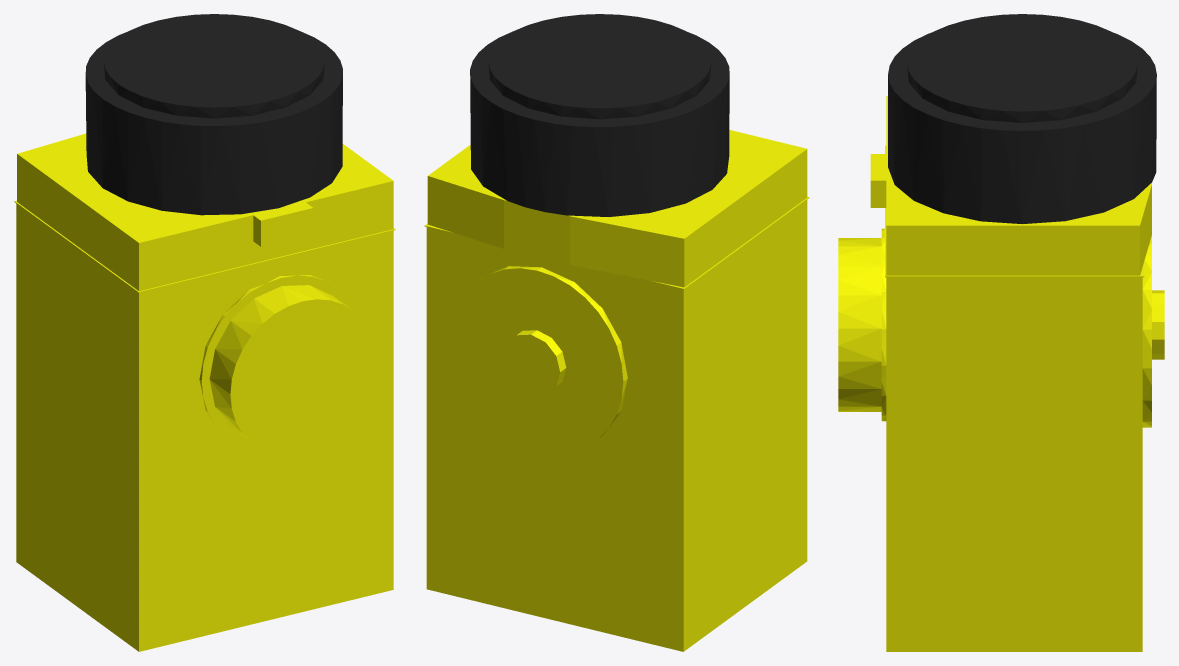
3 views of the same model, side by side, from view 1: azimuth 30°, elevation 25°; view 2: azimuth 150°, elevation 25°; view 3: azimuth 270°, elevation 25° (orthographic). The views are drawn at different scales.
Visible parts, largest first — view 1: node; view 2: node; view 3: node.
Part boxes in pixels (left/top/right/bottom): node: left=14, top=14, right=395, bottom=651; node: left=424, top=14, right=809, bottom=651; node: left=838, top=14, right=1164, bottom=651.
Bounding box in the file's own units: 98 × 185 × 103.
